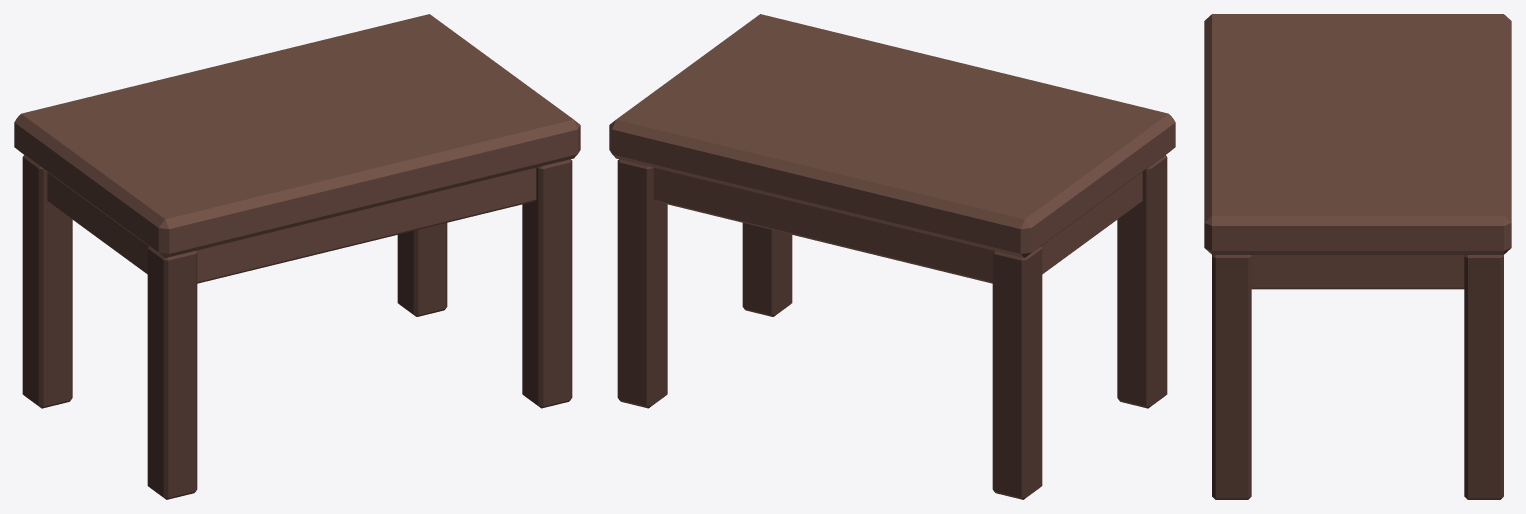
The model's file is table_perimetre.glb.
3 renders of one model, left to right at view 1: azimuth 30°, elevation 25°; view 2: azimuth 150°, elevation 25°; view 3: azimuth 270°, elevation 25°, orthographic.
Visible parts, largest first — view 1: table_perimetre; view 2: table_perimetre; view 3: table_perimetre.
Part boxes in pixels (bbox=[...]): table_perimetre: bbox=[14, 14, 580, 499]; table_perimetre: bbox=[609, 14, 1175, 499]; table_perimetre: bbox=[1204, 14, 1511, 499].
Size of the model in its own units: 1.25 by 0.8 by 0.78.
1 material, 1 textured.
